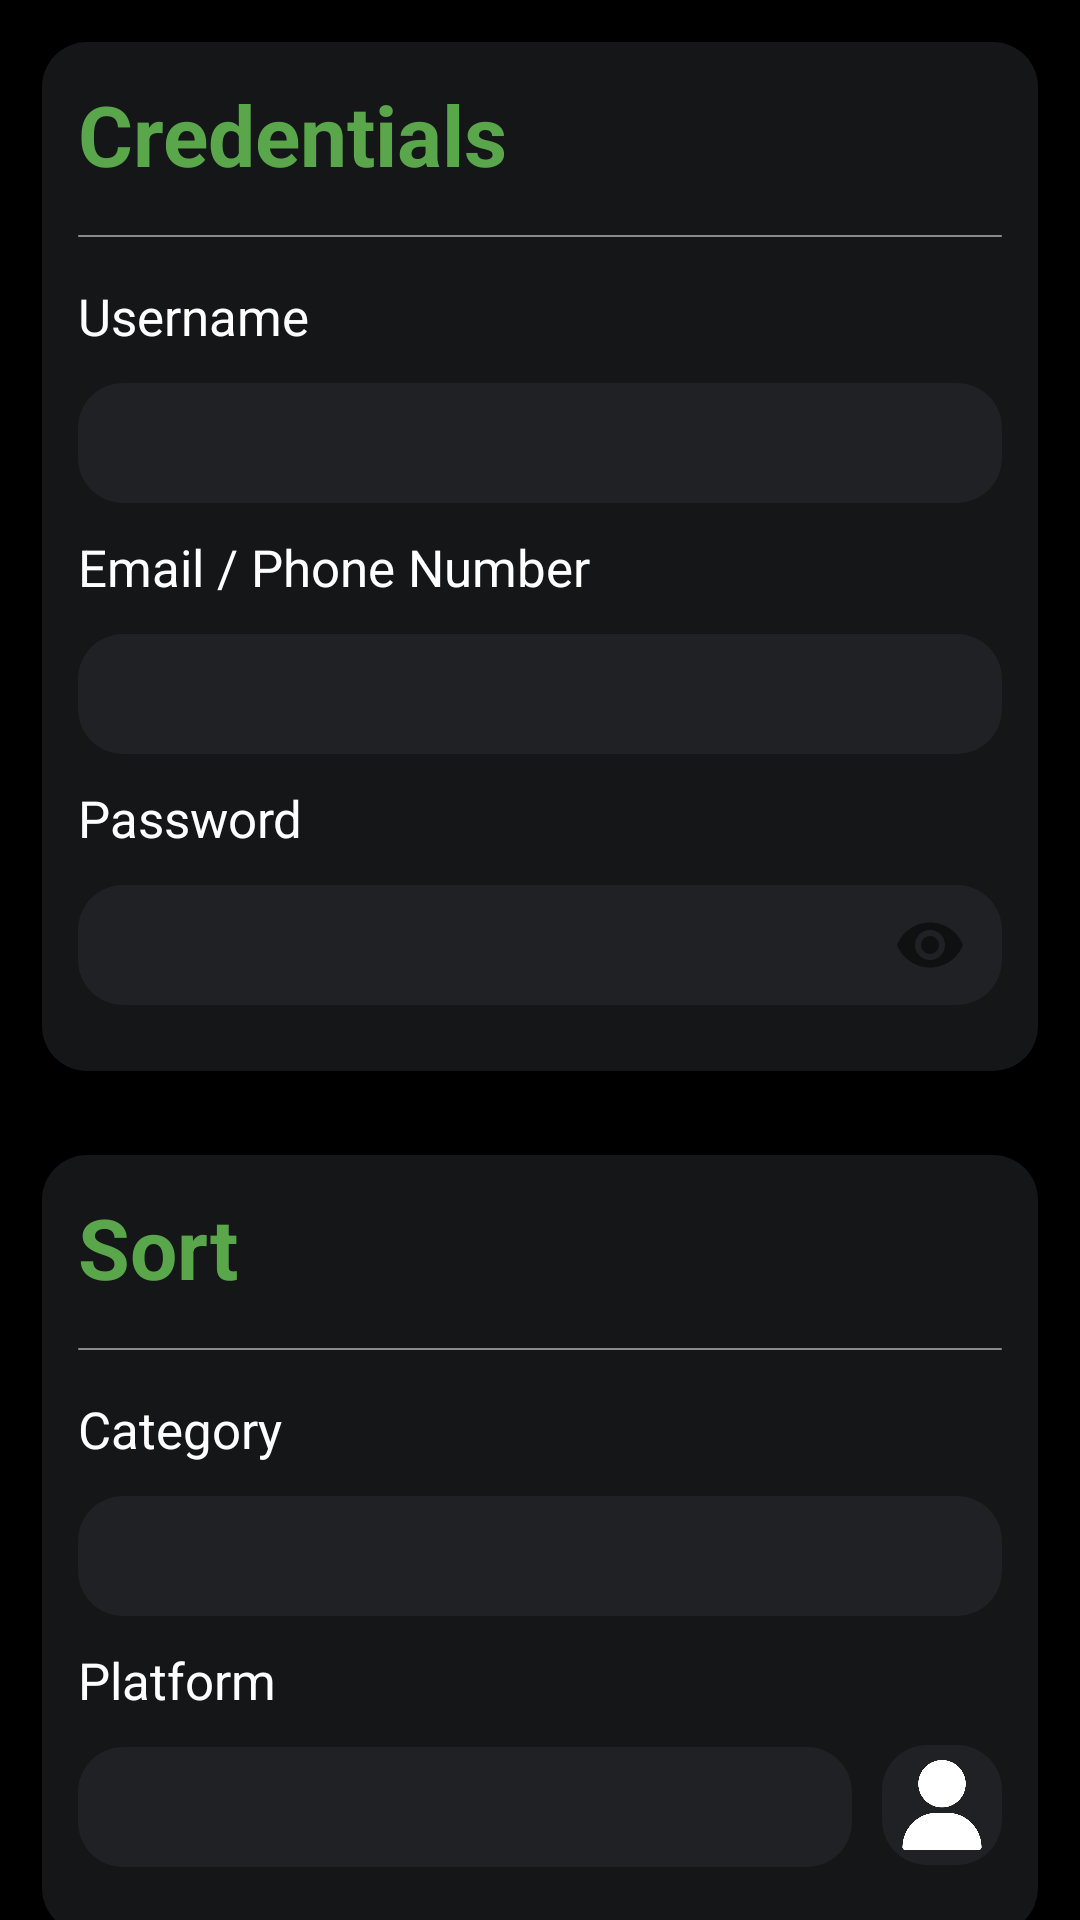

Icon click points for this 1080×1920 phone screenshot, format (x=x, y=y):
user: (x=942, y=1805)
